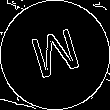M_S: (26, 24, 84, 86)
